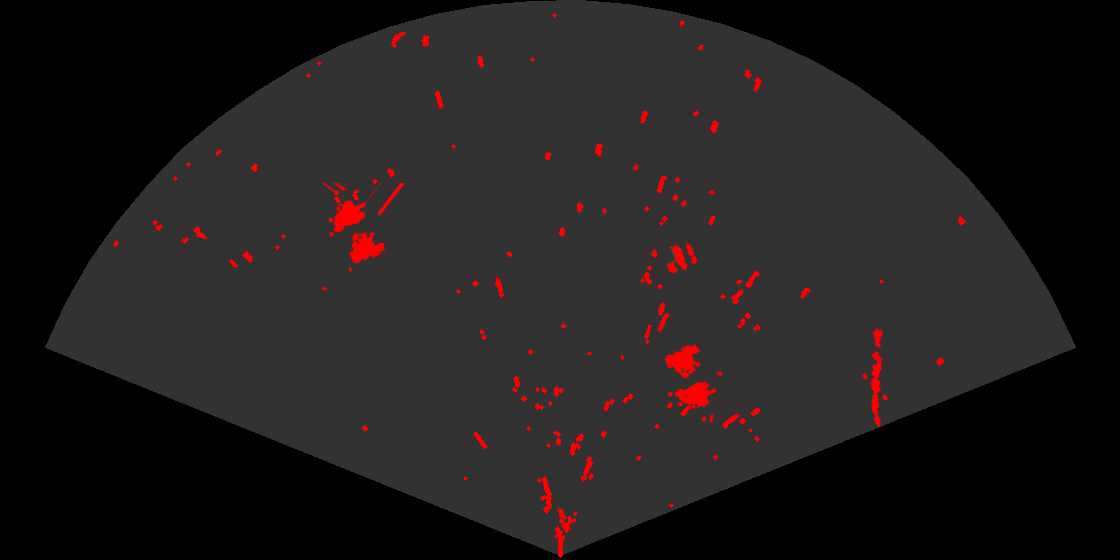ball: (665, 241, 699, 275)
cage: (321, 183, 406, 265), (663, 343, 722, 422)
chain: (869, 326, 885, 427)
